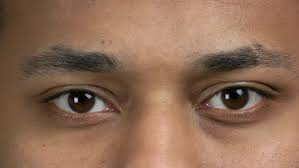e.brown: (69, 93, 98, 113)
